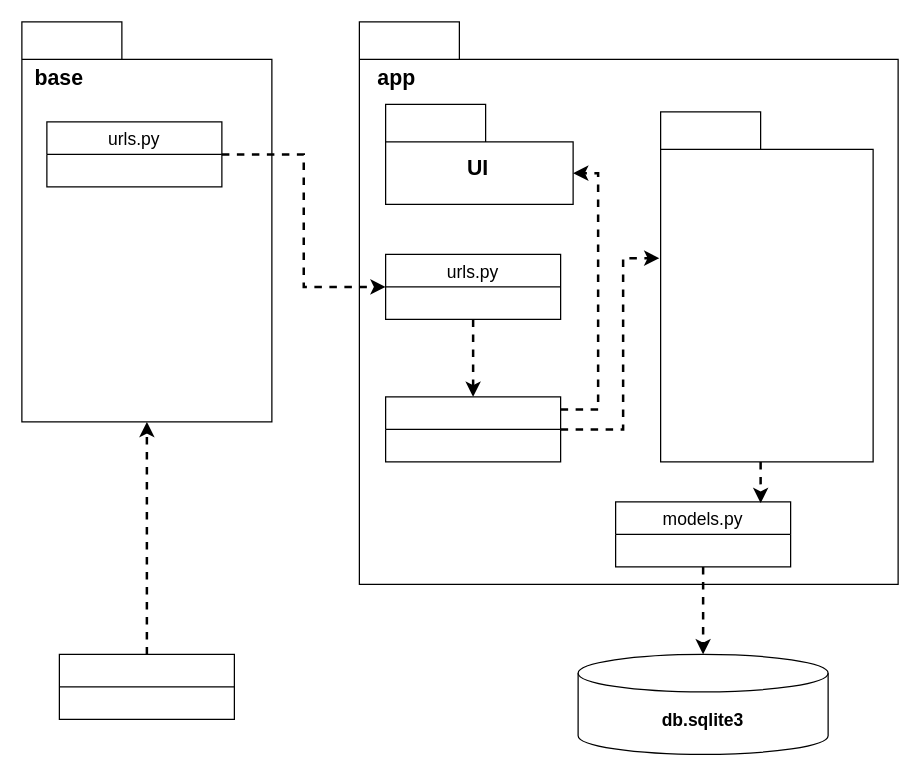
Some shapes in this 920 by 776 pixel diagram are drawn without their labels. Each missing label, with the box of its shape:
controller: (659, 111, 873, 462)
manage.py: (58, 653, 234, 719)
views.py: (384, 396, 561, 462)
